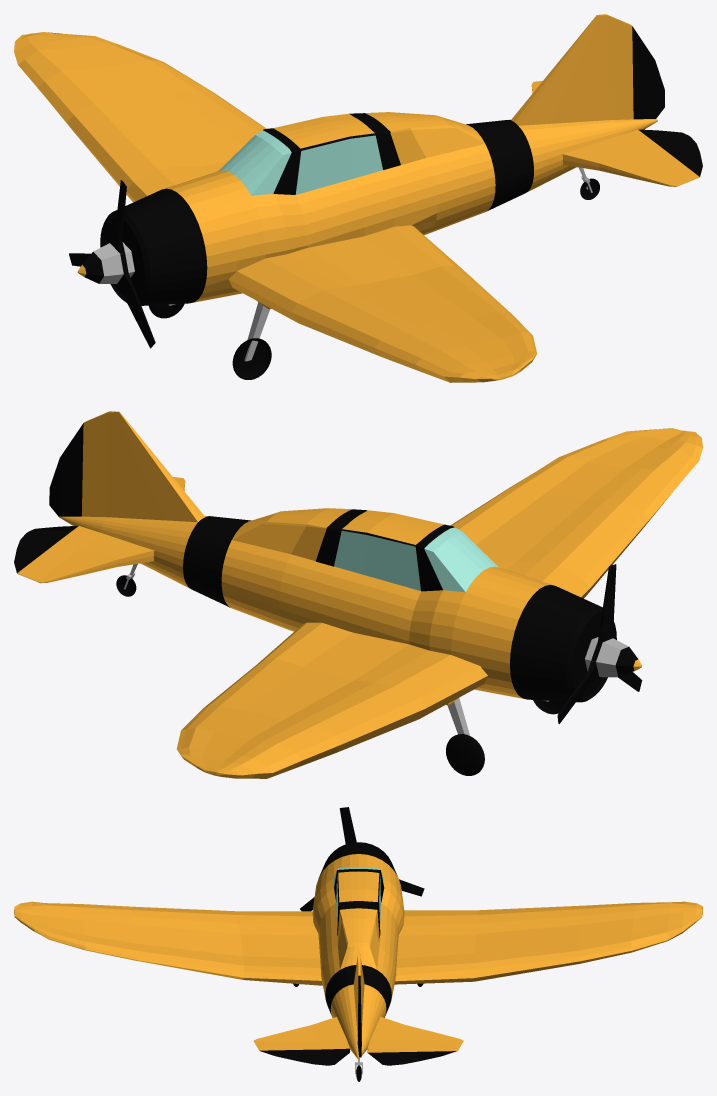
3 views of the same model, one above another, from view 1: azimuth 30°, elevation 25°; view 2: azimuth 150°, elevation 25°; view 3: azimuth 270°, elevation 25° (orthographic). The views are drawn at different scales.
Parts seen in each view (by area): view 1: Plane_0, Helix_1, Rudder_10, Elevator_L_8, Wheel_FrontL_5, LandingGear_FrontL_4; view 2: Plane_0, Helix_1, Rudder_10, Elevator_R_9, Wheel_FrontR_3; view 3: Plane_0, Elevator_L_8, Elevator_R_9, Helix_1.
Boxes of the visible parts, x1,y1,x2,y2 form: Plane_0: [14, 14, 699, 382]; Helix_1: [69, 180, 155, 348]; Rudder_10: [632, 26, 664, 119]; Elevator_L_8: [638, 129, 702, 176]; Wheel_FrontL_5: [232, 338, 271, 379]; LandingGear_FrontL_4: [244, 300, 271, 361]; Plane_0: [17, 411, 702, 778]; Helix_1: [557, 564, 642, 723]; Rudder_10: [49, 423, 83, 516]; Elevator_R_9: [14, 525, 78, 572]; Wheel_FrontR_3: [446, 734, 484, 775]; Plane_0: [14, 842, 702, 1064]; Elevator_L_8: [259, 1048, 349, 1065]; Elevator_R_9: [367, 1051, 456, 1065]; Helix_1: [300, 807, 424, 911].
Size of the model in its own units: 14.31 by 5.51 by 19.63.
